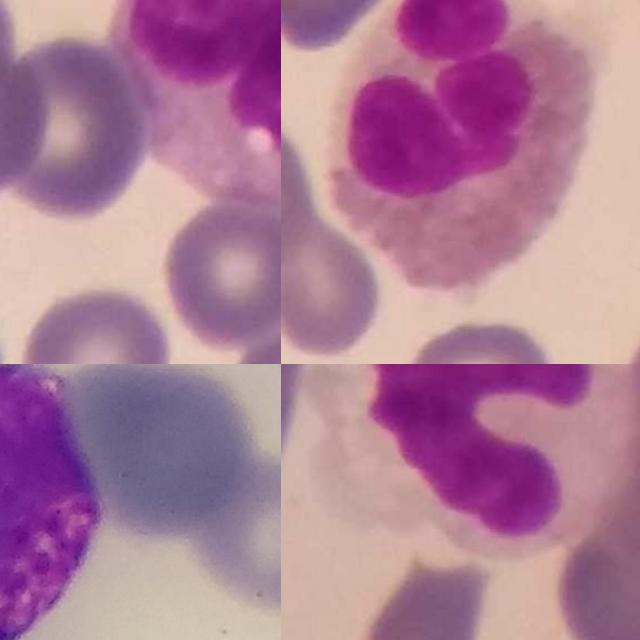Basophil: (0, 364, 99, 640)
Eosinophil: (329, 0, 598, 292)
Monocyte: (314, 364, 634, 552), (138, 0, 281, 211)
